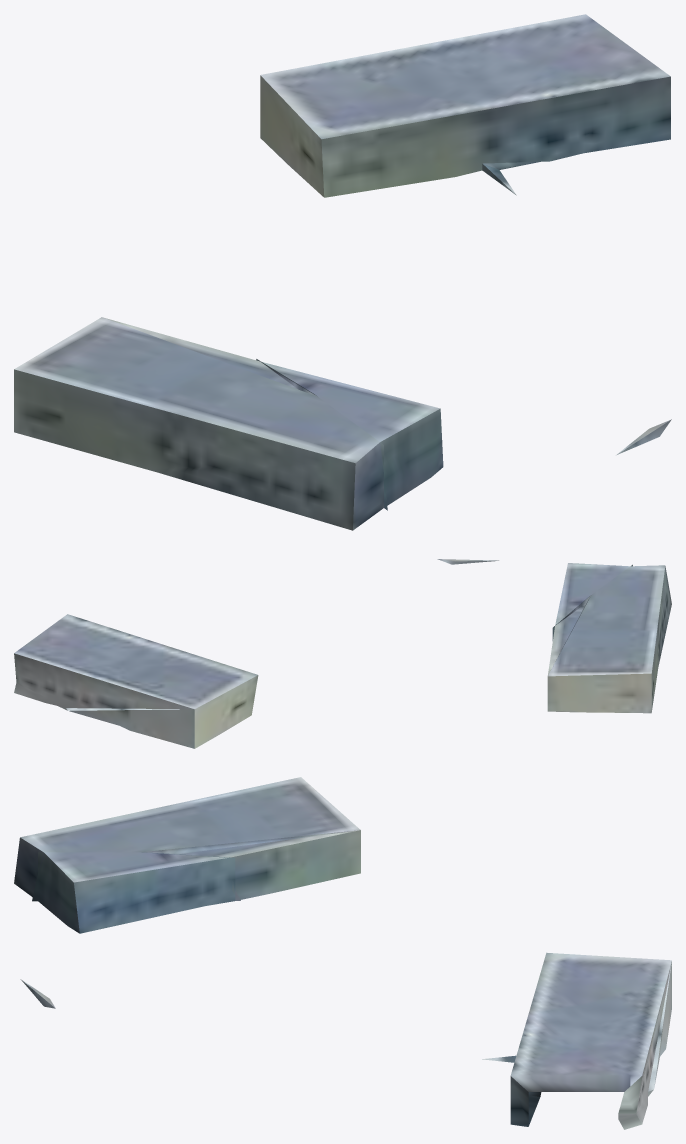
3 views of the same model, one above another, from view 1: azimuth 30°, elevation 25°; view 2: azimuth 150°, elevation 25°; view 3: azimuth 270°, elevation 25° (orthographic). The views are drawn at different scales.
Visible parts, largest first — view 1: 3043627270437061577_0; view 2: 3043627270437061577_0; view 3: 3043627270437061577_0.
Part boxes in pixels (x1,y1,x2,y2): 3043627270437061577_0: [14, 14, 671, 530]; 3043627270437061577_0: [14, 559, 671, 748]; 3043627270437061577_0: [14, 777, 671, 1129].
Bounding box in the file's own units: 36.82 × 3.08 × 33.94.
1 material, 1 textured.
